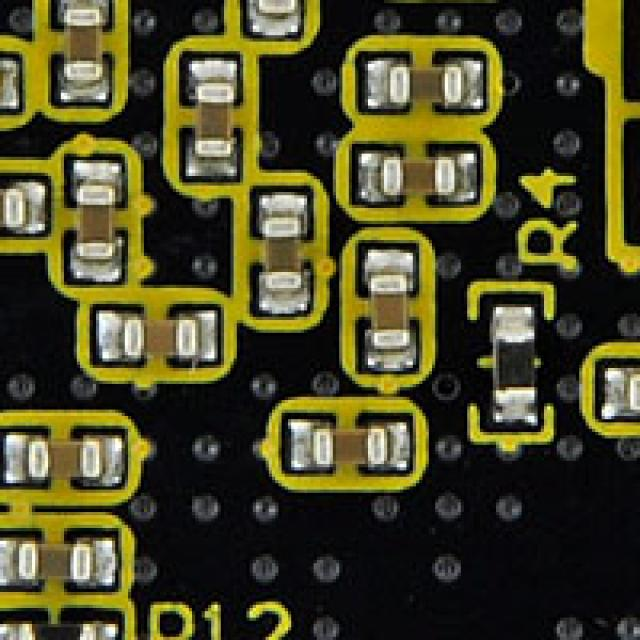IC: (605, 0, 640, 253)
resistor: (470, 285, 544, 435), (0, 605, 128, 640)
unknown: (77, 284, 221, 378), (342, 131, 487, 218), (262, 400, 420, 477), (54, 141, 128, 304), (0, 512, 118, 611), (342, 234, 422, 378), (240, 182, 320, 324), (0, 413, 128, 499), (176, 41, 246, 186), (349, 45, 483, 115), (45, 0, 118, 109), (585, 339, 640, 432), (0, 160, 54, 240), (230, 0, 308, 35), (0, 38, 26, 122)
